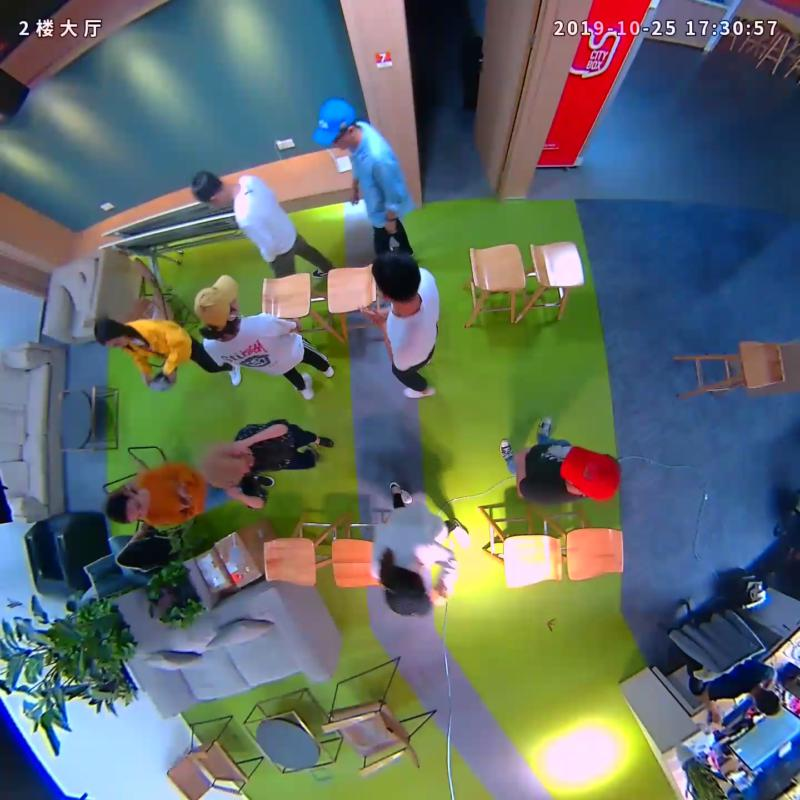head: (557, 445, 621, 502), (200, 440, 254, 492), (192, 272, 239, 329), (372, 250, 421, 304), (382, 565, 432, 617), (312, 98, 359, 152), (105, 485, 151, 524), (191, 170, 231, 206), (92, 316, 131, 348)
